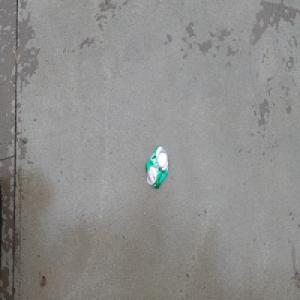SodaCan: (144, 143, 169, 190)
